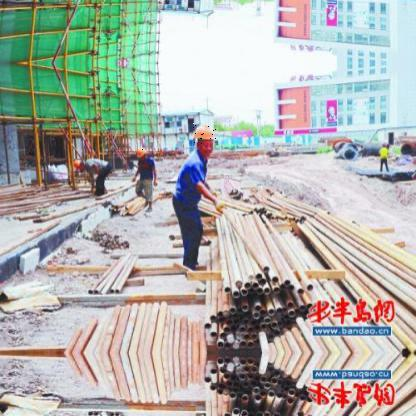safetyhelmet: (193, 124, 219, 146), (72, 160, 83, 172), (136, 148, 148, 158)
